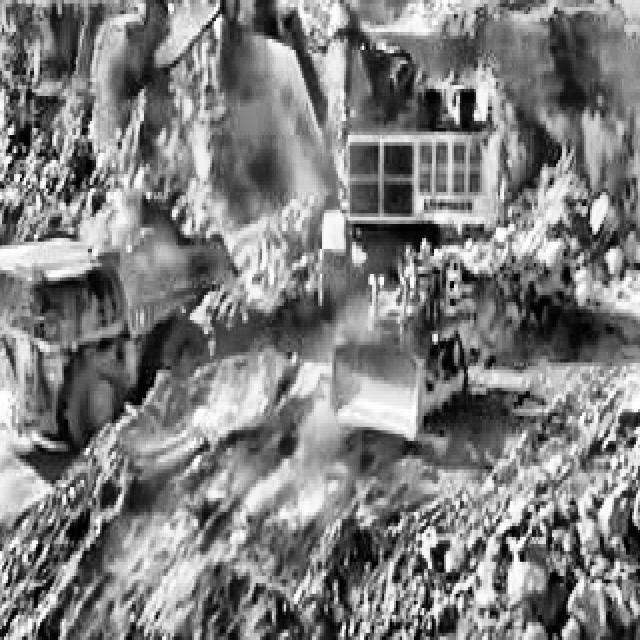dump_truck: (0, 231, 224, 377)
excavator: (68, 0, 502, 228)
